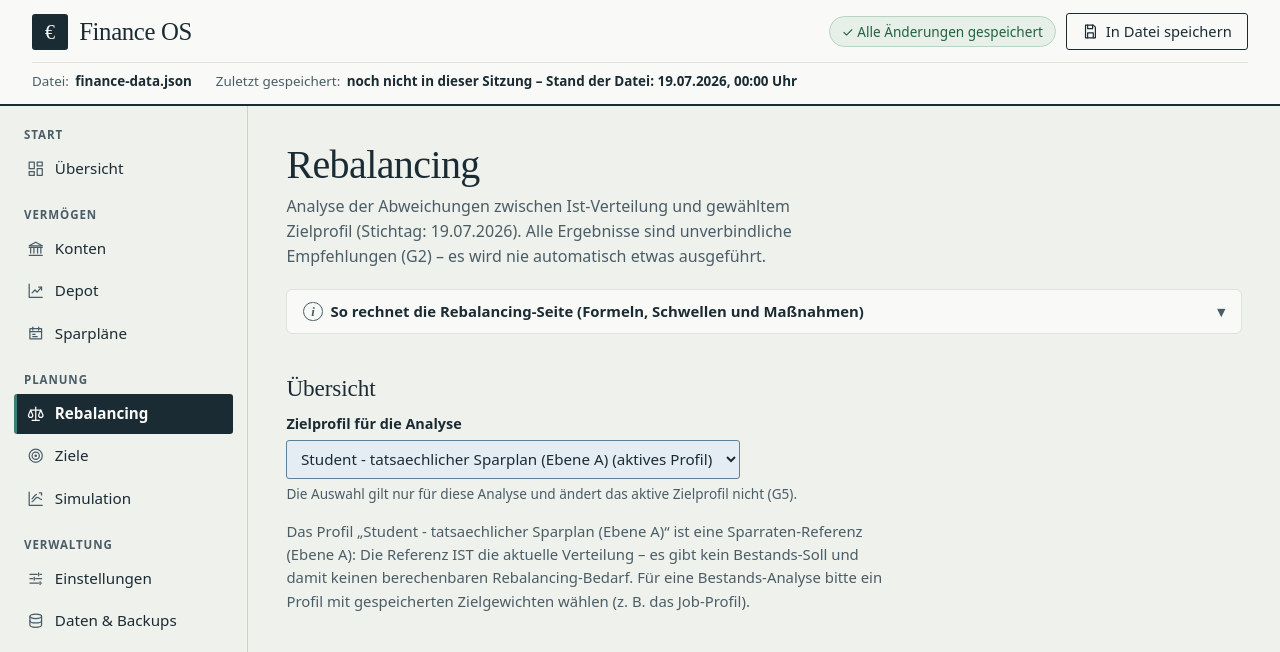
RebalancingPage – Leerzustände je Profiltyp › leeres holdings-Profil (Ebene B): „Profil nicht befüllt – es wird nicht gerechnet.“ (M11-AK 4)
The image size is (1280, 652).
Select "Student - Bestandsziel (Ebene B)" in the dropdown labelled "Zielprofil für die Analyse" at (513, 459), box [286,440,740,478]
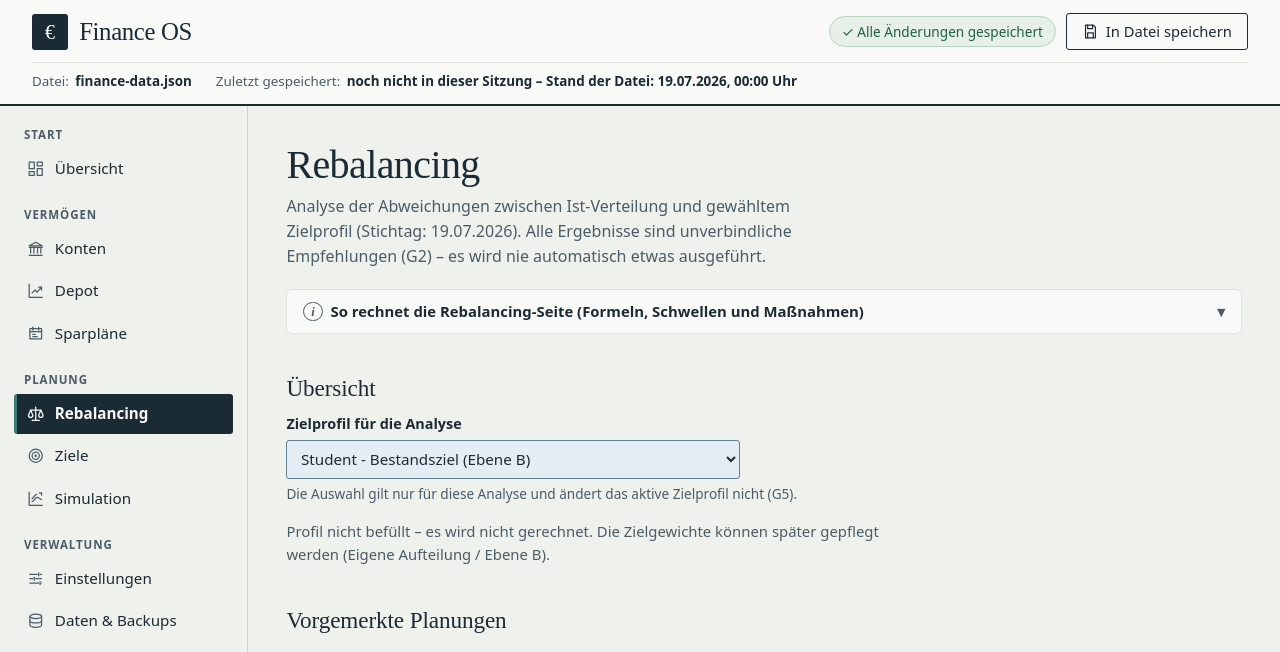
Result: the text "Profil nicht befüllt – es wird nicht gerechnet" is shown at [286,521,879,564]
